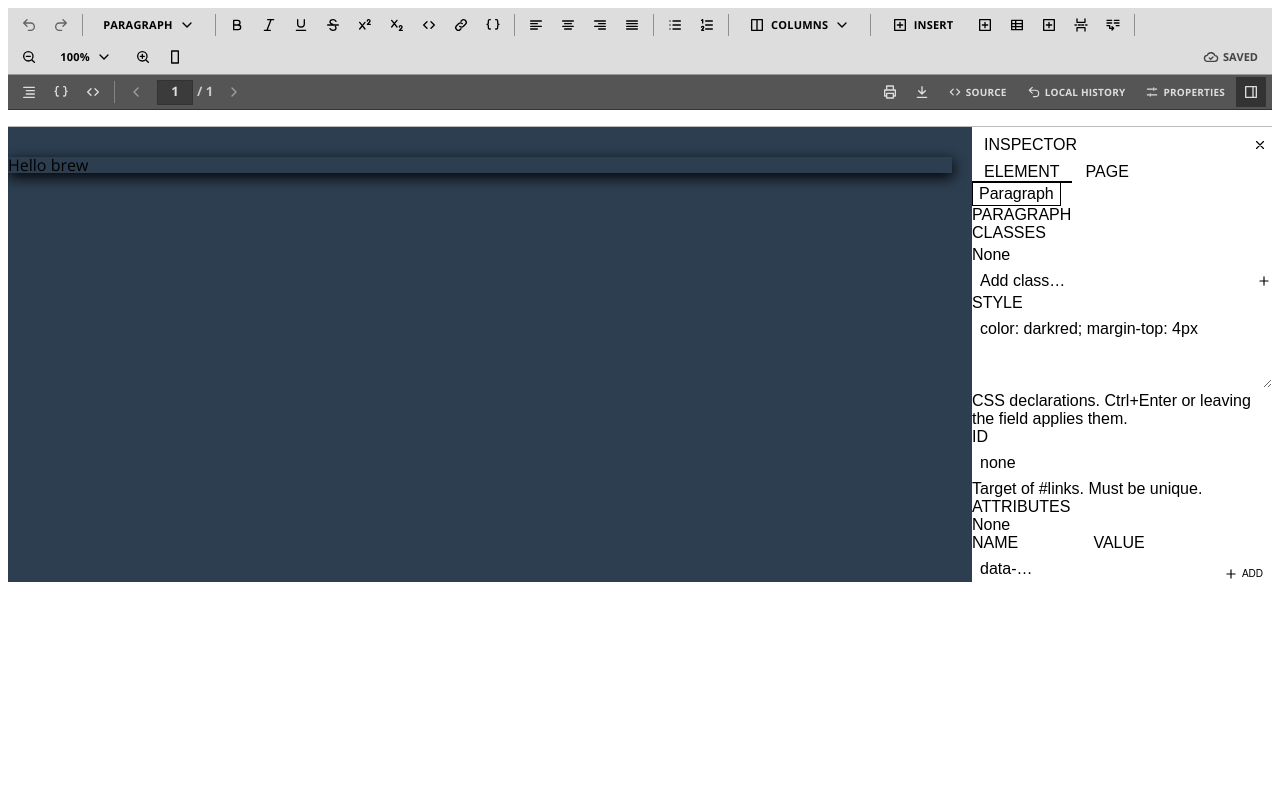
it: EditorApp › panel toggles open their drawers and point at them while open
The width and height of the screenshot is (1280, 800).
Click the button named "Outline" at (29, 92), box [14,77,44,107]
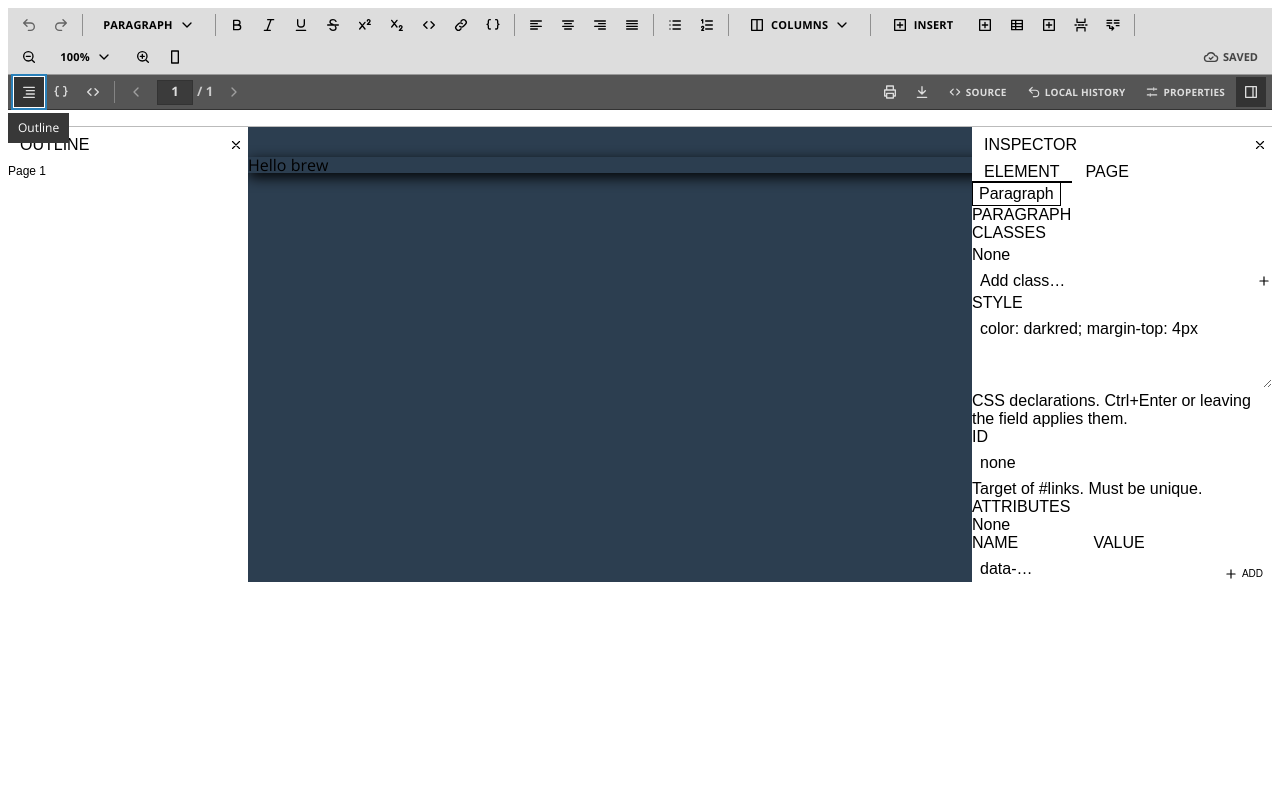
Expected: the button named "Outline" is expanded
Expected: the element with id "hb-outline-panel" is shown, [8,136,89,178]
Click the button named "Outline" at (29, 92), box [14,77,44,107]
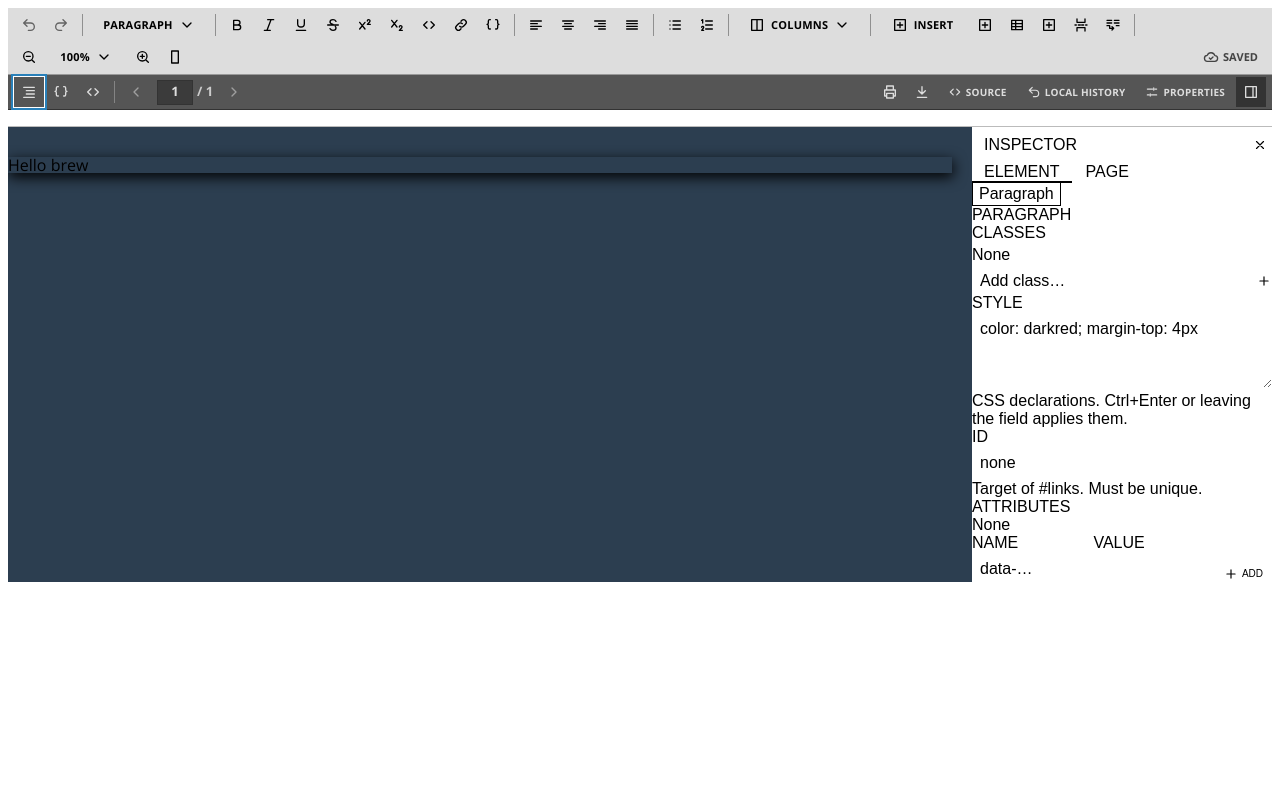
Expected: the element with id "hb-outline-panel" is gone
